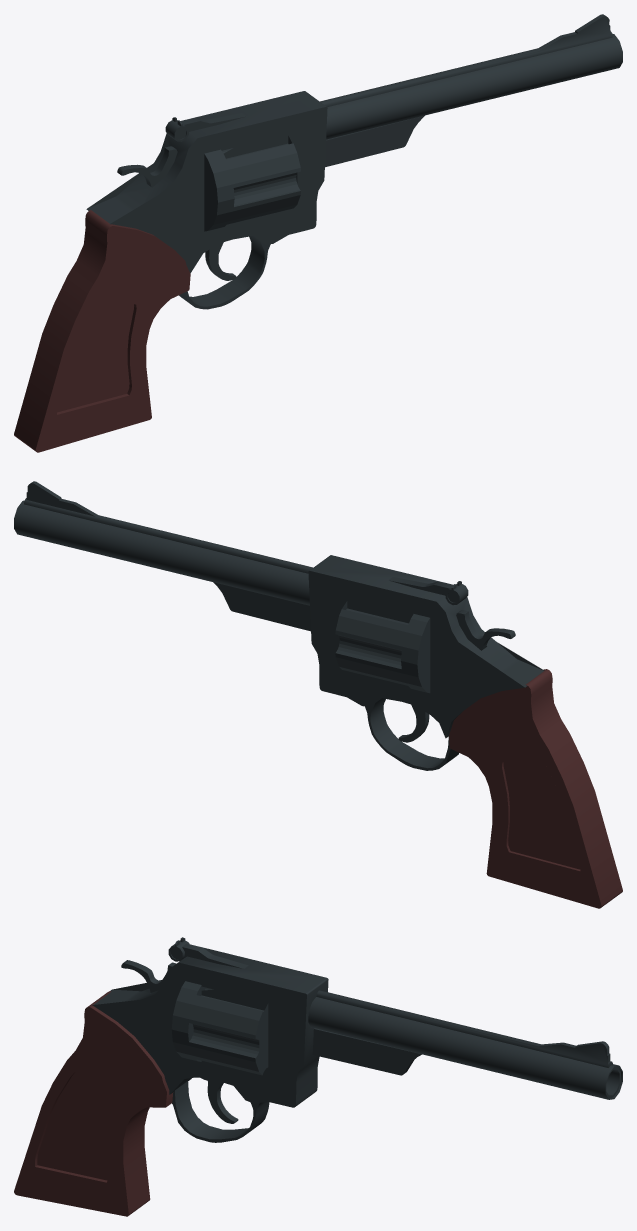
Rendered from Gun01.fbx.
The picture shows the model from 3 angles, top to bottom: view 1: azimuth 30°, elevation 25°; view 2: azimuth 150°, elevation 25°; view 3: azimuth 330°, elevation 25°; orthographic projection.
Visible parts, largest first — view 1: Cylinder.003, Cylinder.006, Cylinder.002, Cylinder.001; view 2: Cylinder.003, Cylinder.006, Cylinder.002, Cylinder.001; view 3: Cylinder.006, Cylinder.003, Cylinder.002, Cylinder.001.
Boxes of the visible parts, x1,y1,x2,y2 form: Cylinder.003: (14,210,190,452); Cylinder.006: (86,91,327,309); Cylinder.002: (320,14,622,167); Cylinder.001: (204,136,300,231); Cylinder.003: (449,669,622,908); Cylinder.006: (308,555,544,770); Cylinder.002: (14,481,312,631); Cylinder.001: (335,601,430,693); Cylinder.006: (92,937,328,1142); Cylinder.003: (14,991,173,1216); Cylinder.002: (308,990,622,1099); Cylinder.001: (171,981,268,1075).
Bounding box in the file's own units: 28.7 × 13.23 × 4.06.
